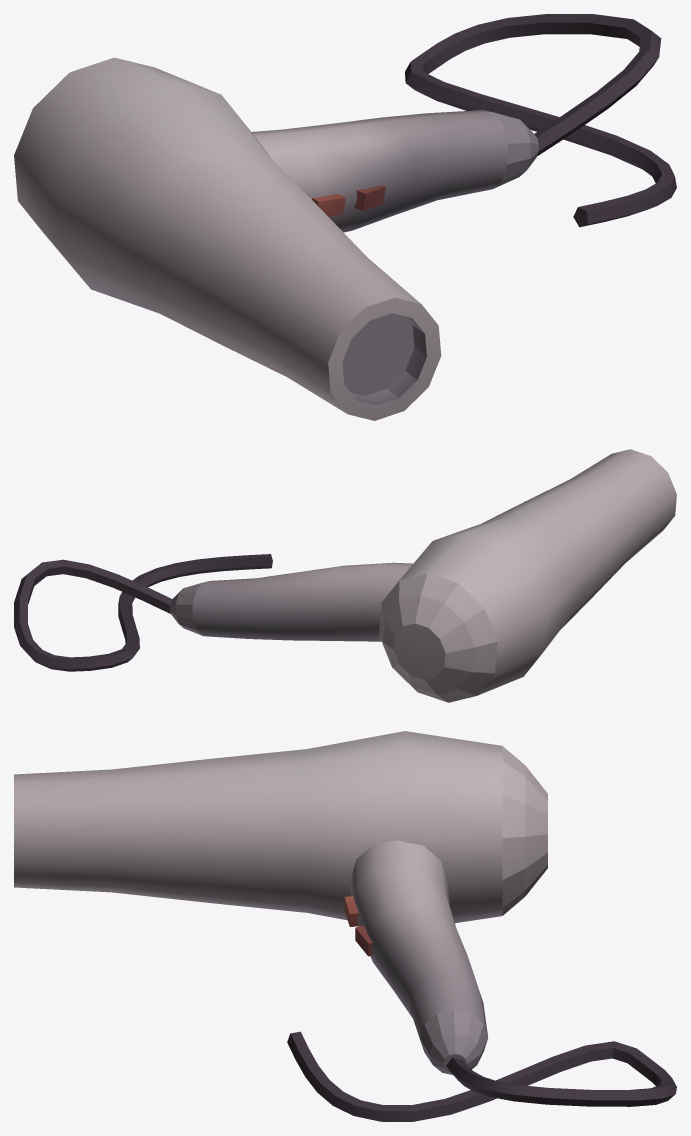
Rendered from M_hairdryer.FBX.
3 views of the same model, one above another, from view 1: azimuth 30°, elevation 25°; view 2: azimuth 150°, elevation 25°; view 3: azimuth 270°, elevation 25° (orthographic). The views are drawn at different scales.
Visible parts, largest first — view 1: Cylinder014; view 2: Cylinder014; view 3: Cylinder014.
Boxes of the visible parts, bbox=[...] form: Cylinder014: bbox=[14, 14, 676, 420]; Cylinder014: bbox=[14, 449, 676, 702]; Cylinder014: bbox=[14, 731, 676, 1121].
Bounding box in the file's own units: 35.75 × 35.83 × 10.68.
